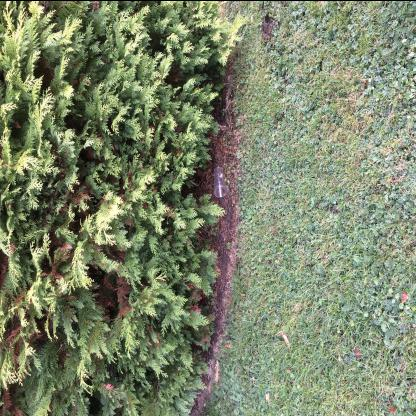plastik: (214, 165, 228, 197)
